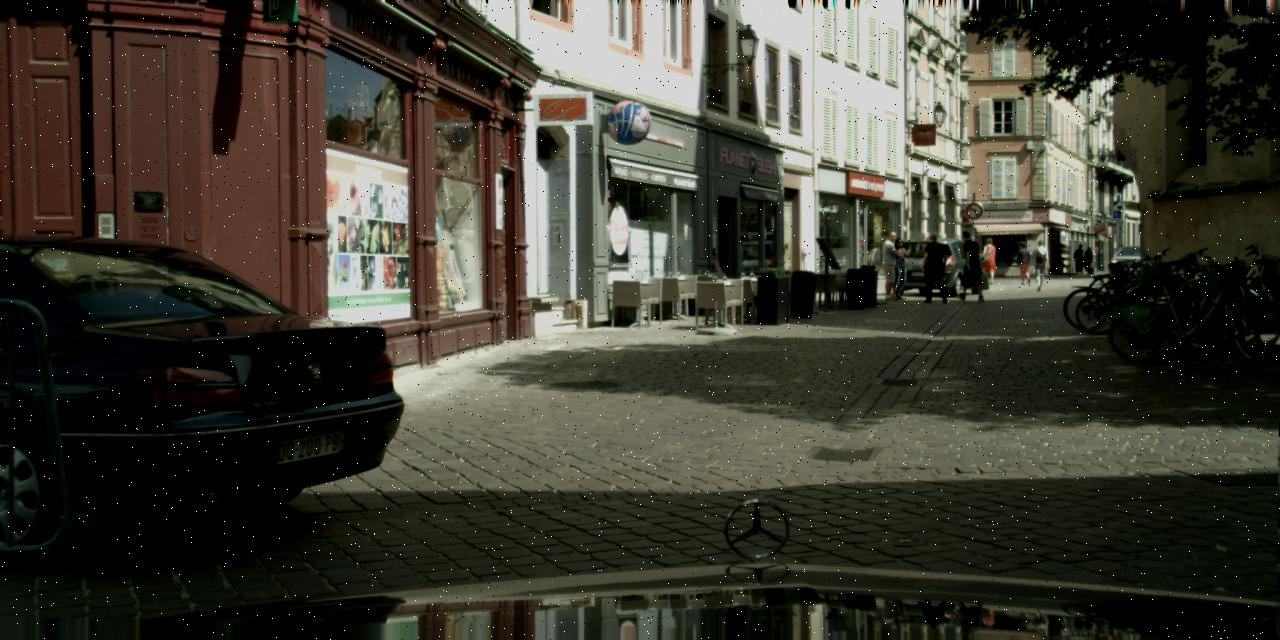ped: (954, 230, 984, 302), (920, 233, 949, 303), (878, 231, 906, 300), (886, 237, 911, 299), (1030, 240, 1050, 290), (978, 237, 998, 283), (1016, 241, 1033, 283), (1074, 244, 1086, 274), (1082, 246, 1094, 274)
